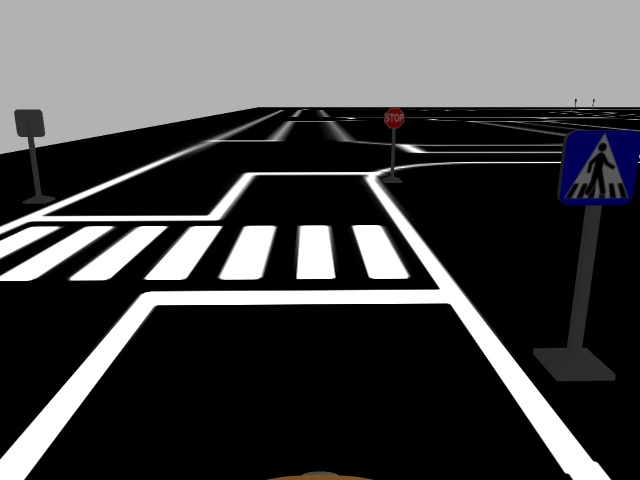crosswalk: (560, 127, 640, 206)
stop: (380, 105, 407, 130)
